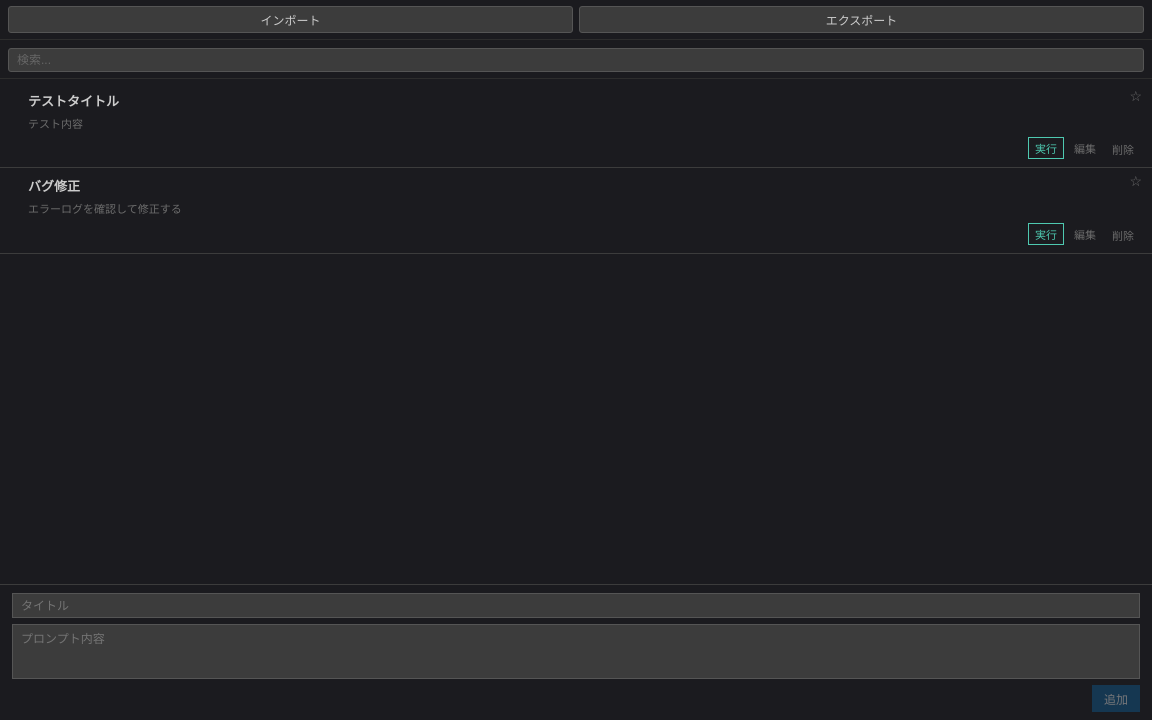
Test: PromptsPanel › 検索 UI › query をクリアすると全件が表示される
In the search field: (576, 60) top-left (8, 48), bottom-right (1144, 72), type "バグ"
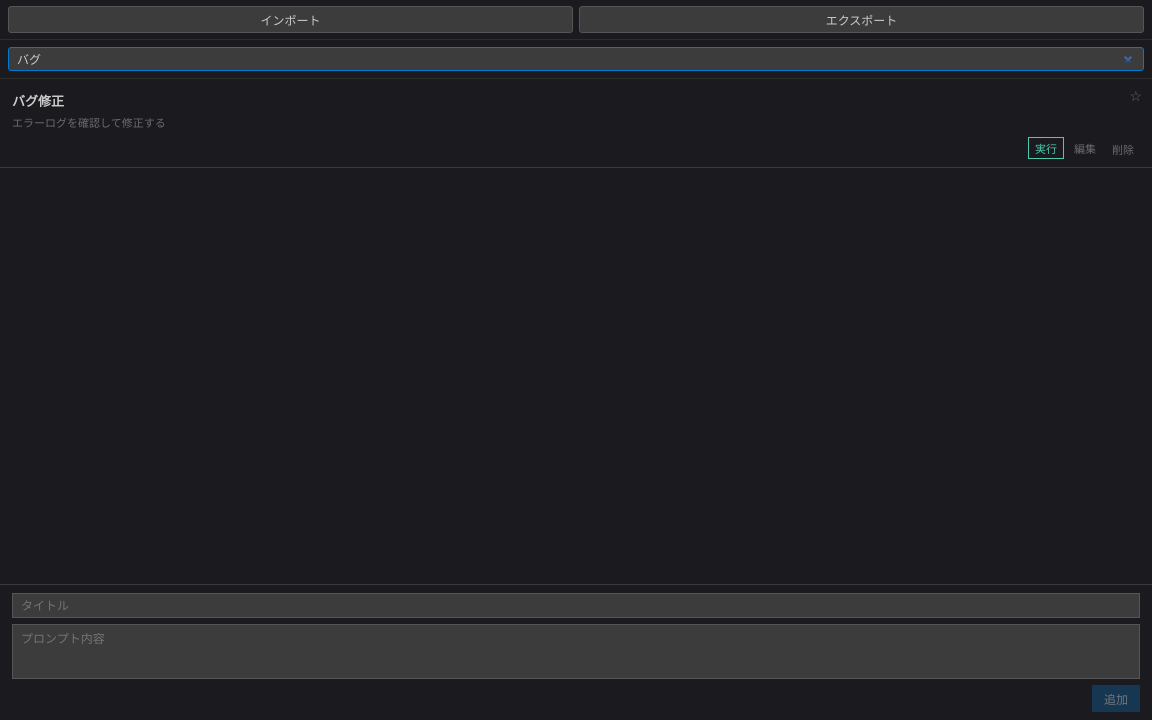
Result: the text "テストタイトル" is gone
Clear the search field: (576, 58) top-left (8, 46), bottom-right (1144, 70)
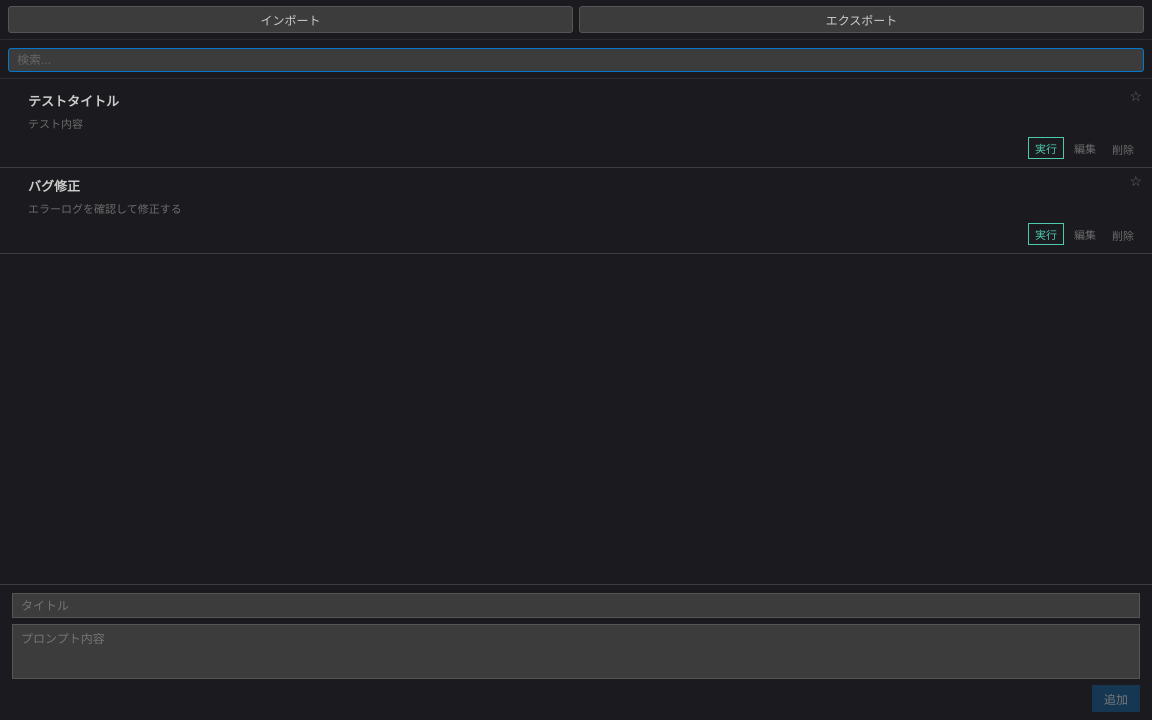
Expected: the text "バグ修正" is shown, top-left (28, 178), bottom-right (80, 194)
Result: the text "テストタイトル" is shown at top-left (28, 93), bottom-right (119, 109)
